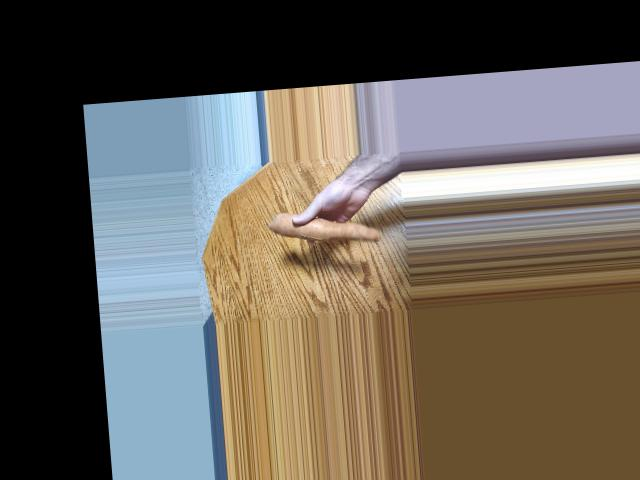sweet_potato: (270, 215, 380, 244)
